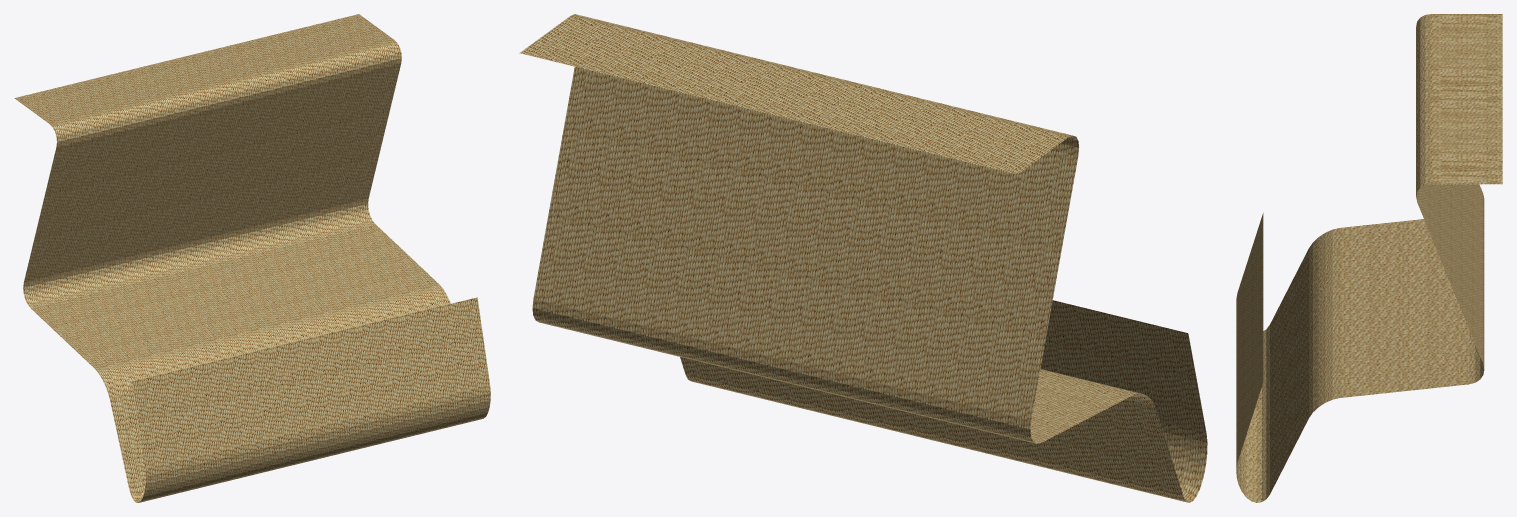
Rendered from loomfabric.glb.
3 renders of one model, left to right at view 1: azimuth 30°, elevation 25°; view 2: azimuth 150°, elevation 25°; view 3: azimuth 270°, elevation 25°, orthographic. The views are drawn at different scales.
Visible parts, largest first — view 1: Plane.028; view 2: Plane.028; view 3: Plane.028.
Boxes of the visible parts, left/top/right/bottom form: Plane.028: left=14, top=14, right=490, bottom=502; Plane.028: left=519, top=14, right=1207, bottom=502; Plane.028: left=1236, top=14, right=1502, bottom=502.
Bounding box in the file's own units: 1.84 × 1.6 × 1.21.
Materials: 1 (1 with a texture image).
